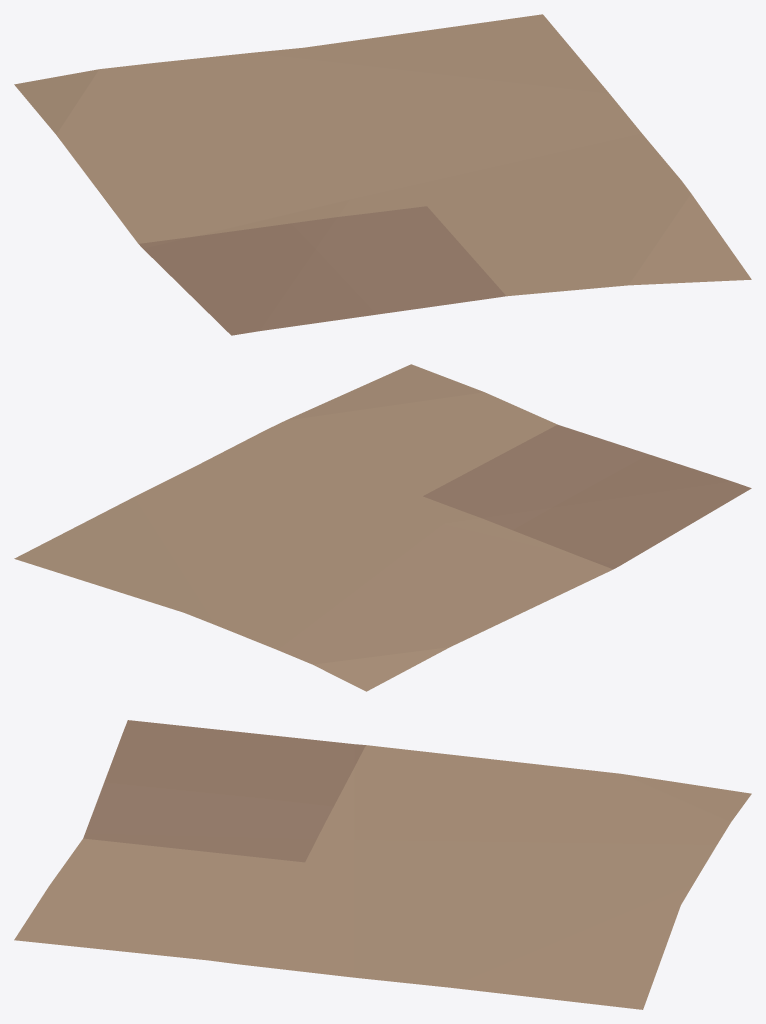
Rendered from farm_-59_-55_soil.glb.
3 renders of one model, top to bottom at view 1: azimuth 30°, elevation 25°; view 2: azimuth 150°, elevation 25°; view 3: azimuth 270°, elevation 25°, orthographic. The views are drawn at different scales.
Visible parts, largest first — view 1: geometry_0; view 2: geometry_0; view 3: geometry_0.
Boxes of the visible parts, x1,y1,x2,y2 form: geometry_0: [14, 14, 751, 335]; geometry_0: [14, 364, 751, 691]; geometry_0: [14, 720, 751, 1009].
Bounding box in the file's own units: 118 × 4.58 × 137.
